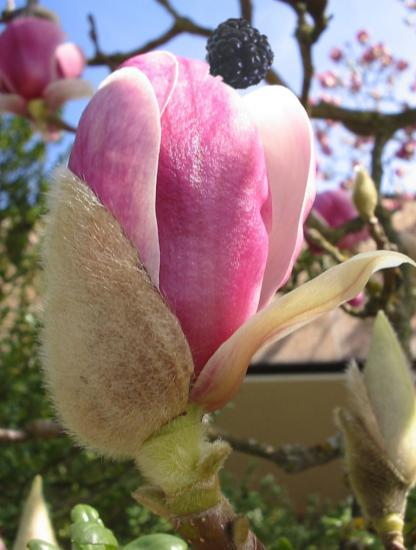Mulberry: (200, 0, 297, 97)
